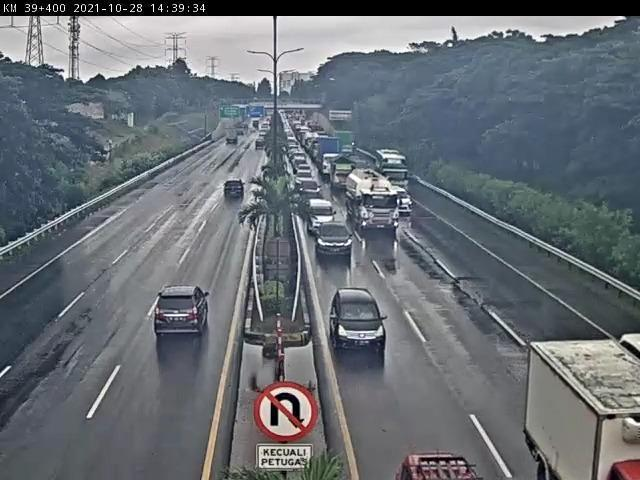bus: (379, 148, 417, 187)
car: (148, 277, 216, 343), (380, 435, 479, 480), (327, 283, 384, 349), (610, 314, 640, 365), (312, 224, 346, 267), (306, 196, 332, 230), (392, 188, 418, 218), (217, 181, 247, 203)
truck: (510, 318, 640, 480), (344, 169, 396, 242)
